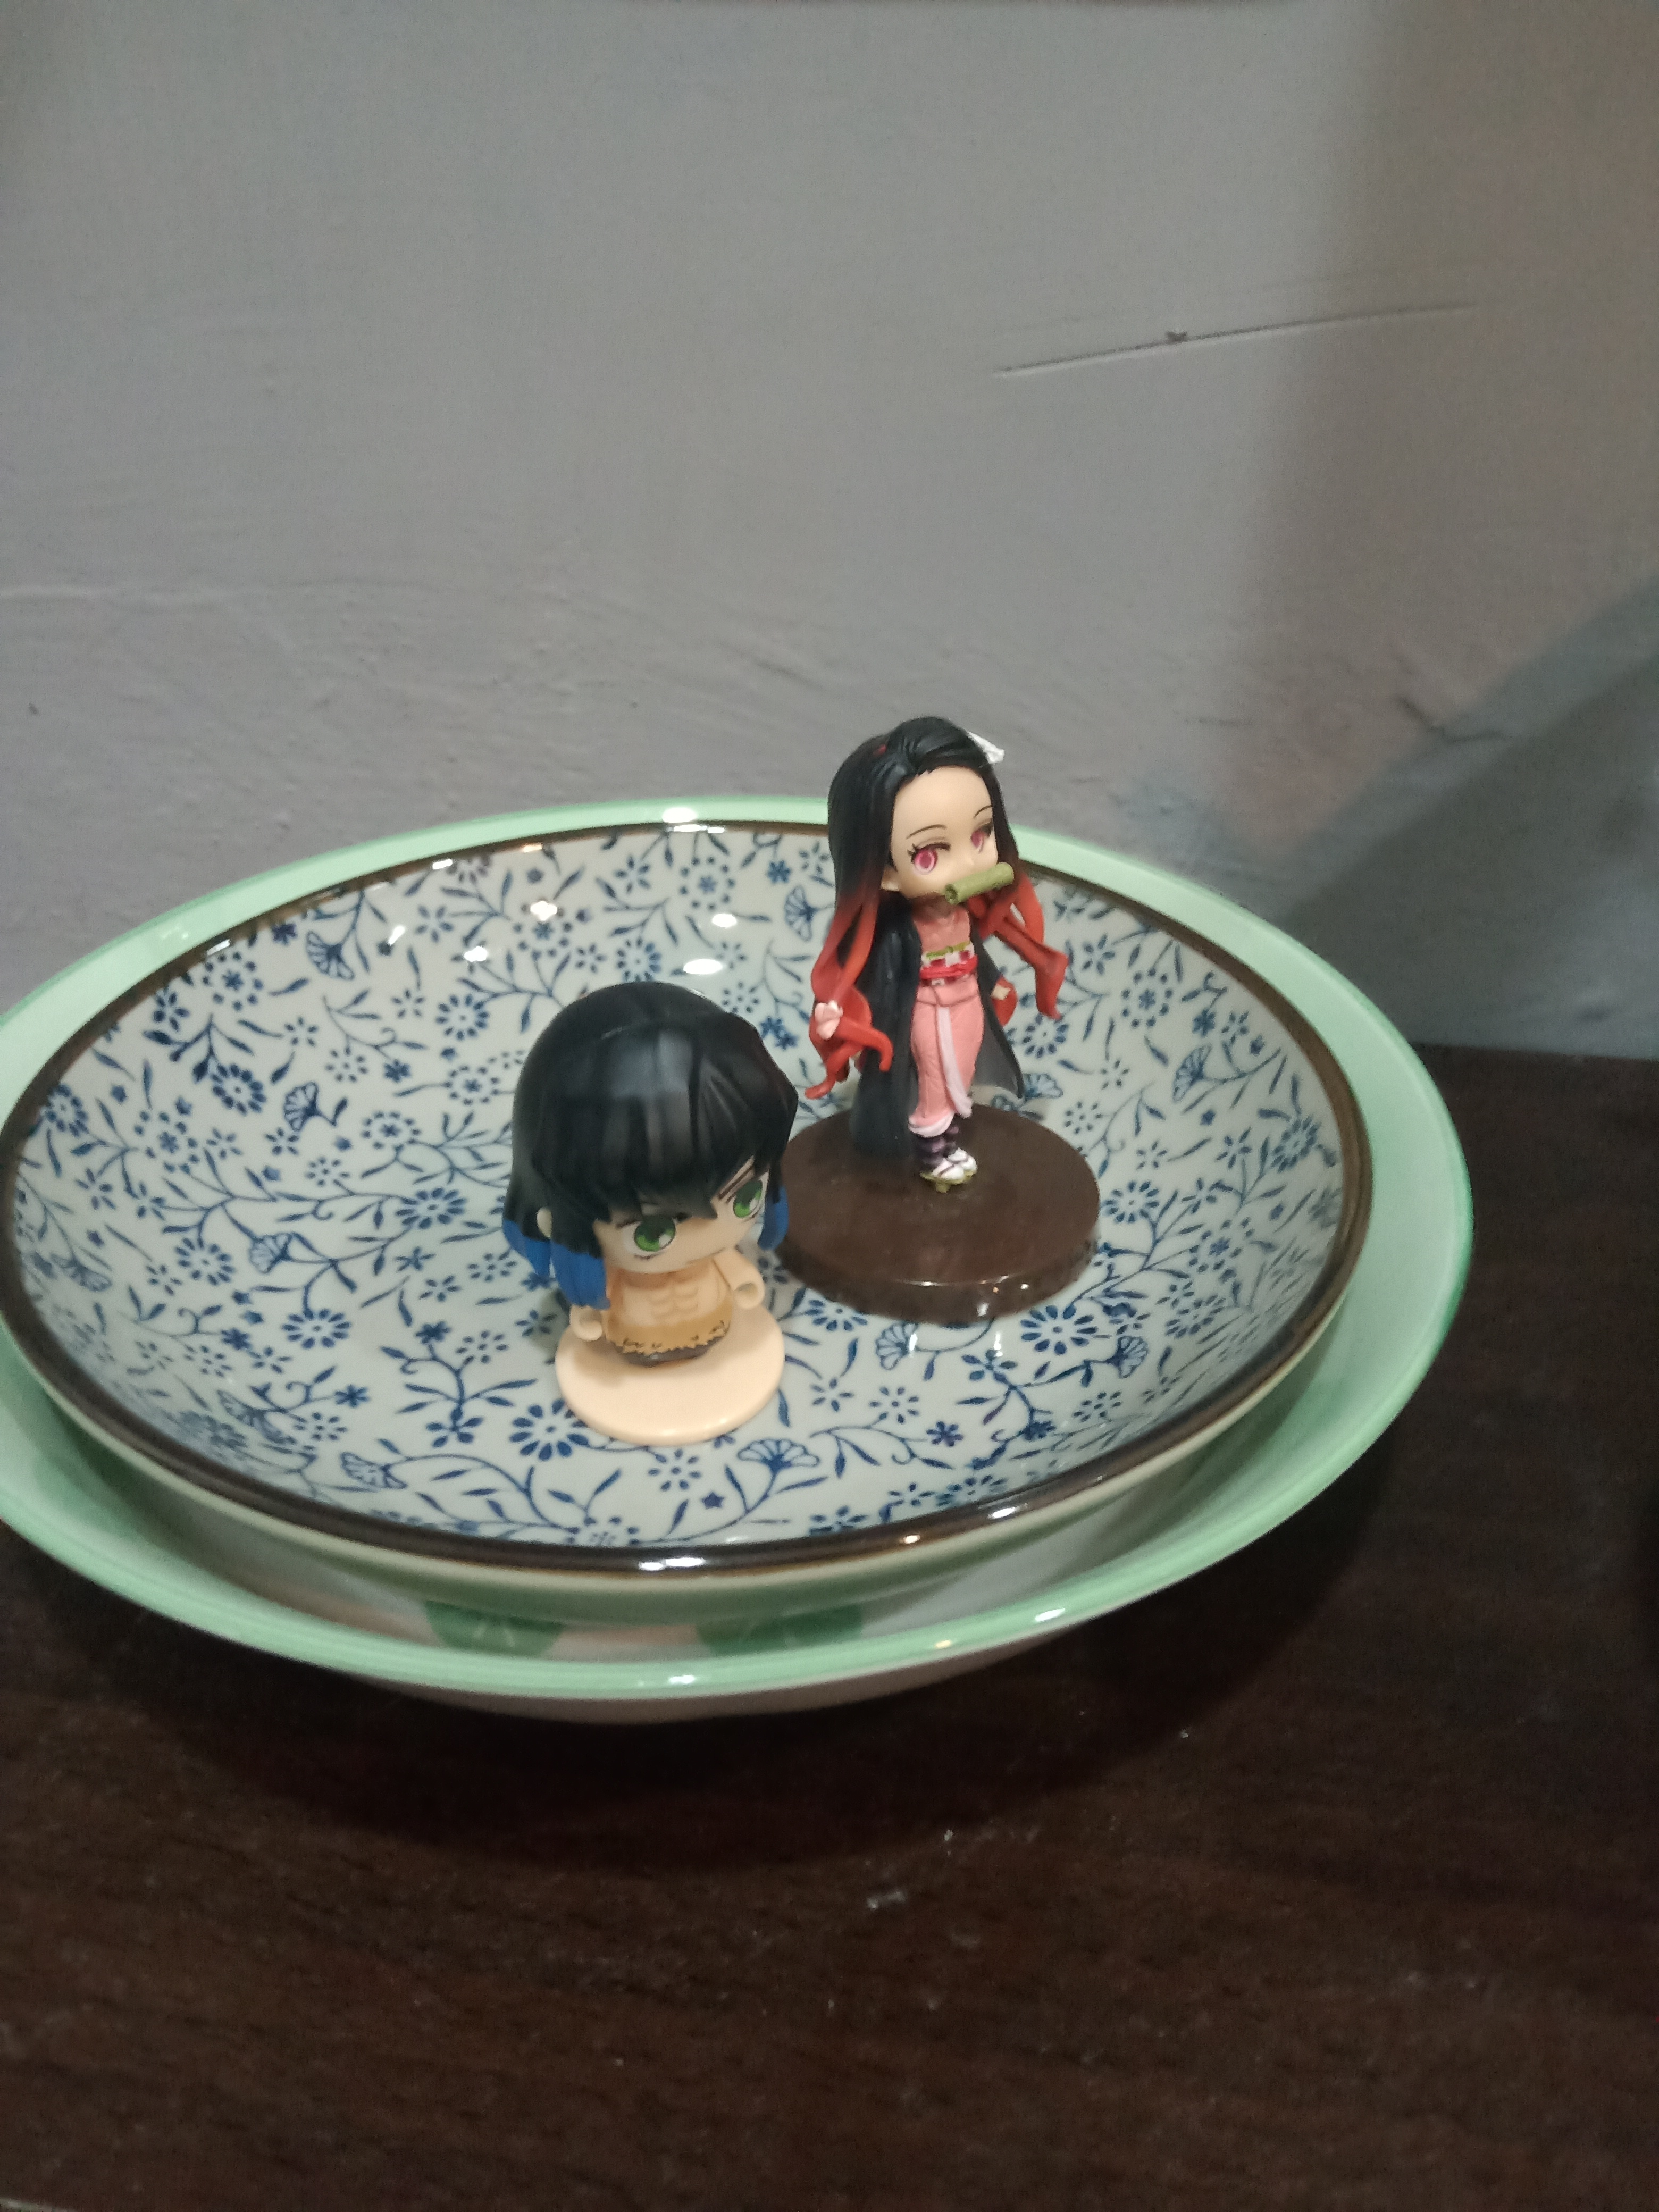Inosuke: (474, 956, 819, 1458)
Nezuko: (758, 700, 1115, 1334)
